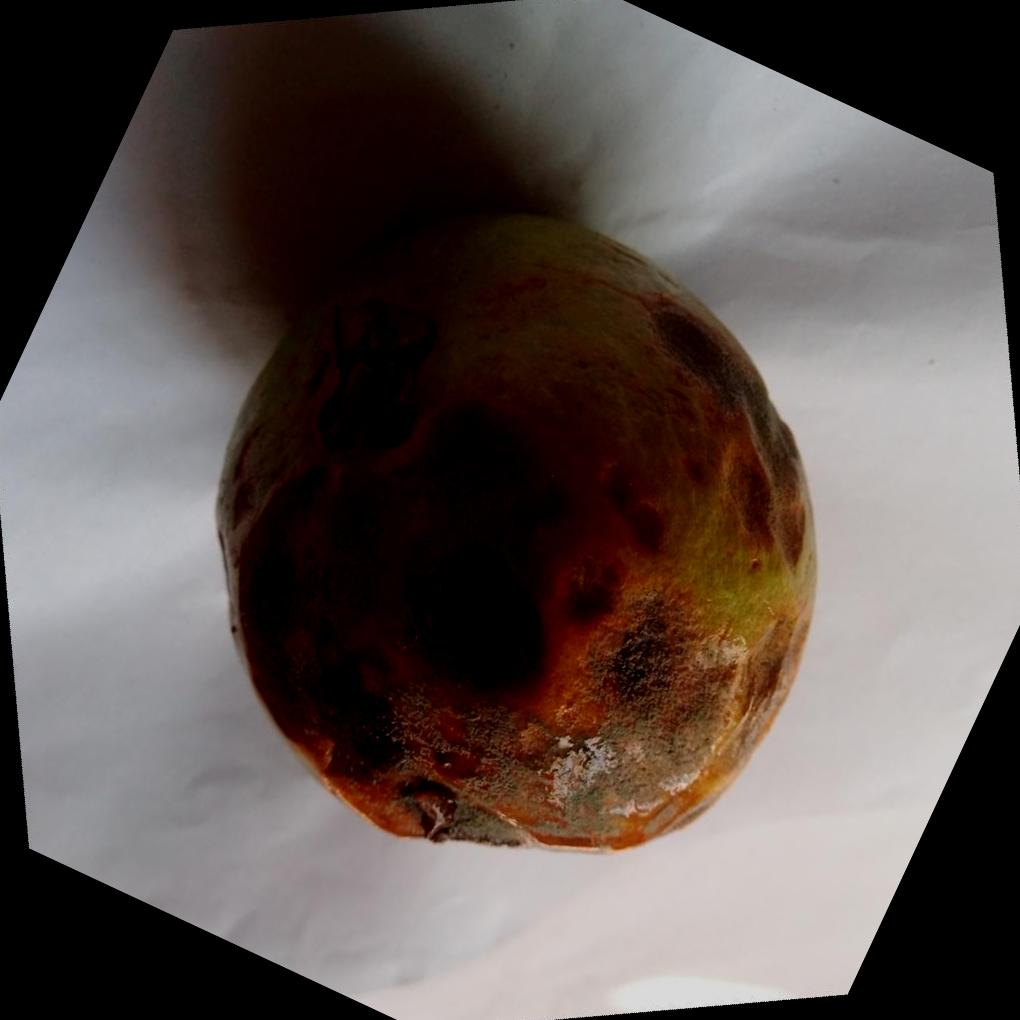FreshOrange: (209, 205, 816, 853)
